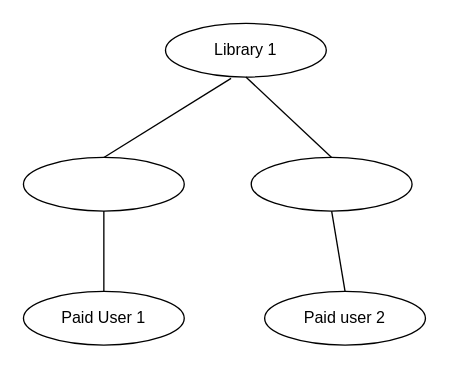
Image size: 449x369. Some labels were removed from this diagram. The shapes that lost their labels are listed below. From the top down, each one's box as (x1, y1, x2, y2) in pixels, then its label:
(22, 156, 184, 211): Membership 1
(250, 156, 412, 211): Membership 2
